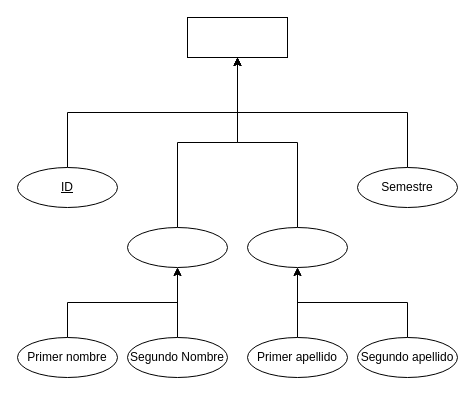
The diagram is 475 pixels wide and 395 high, and some of its shapes have lost their labels. Here are the shapes that lost their labels. From the top down, the box of each, then its label:
(186, 16, 288, 58): Estudiantes
(126, 226, 228, 268): Nombre
(246, 226, 348, 268): Apelllido
